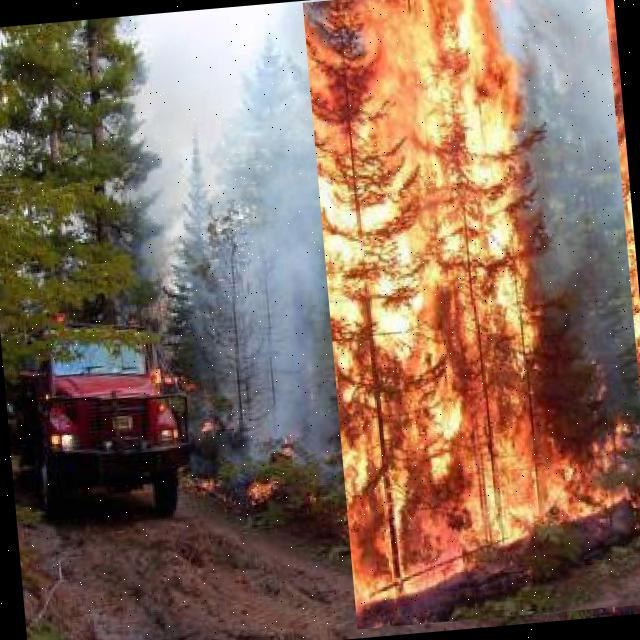fire: (302, 0, 640, 629)
